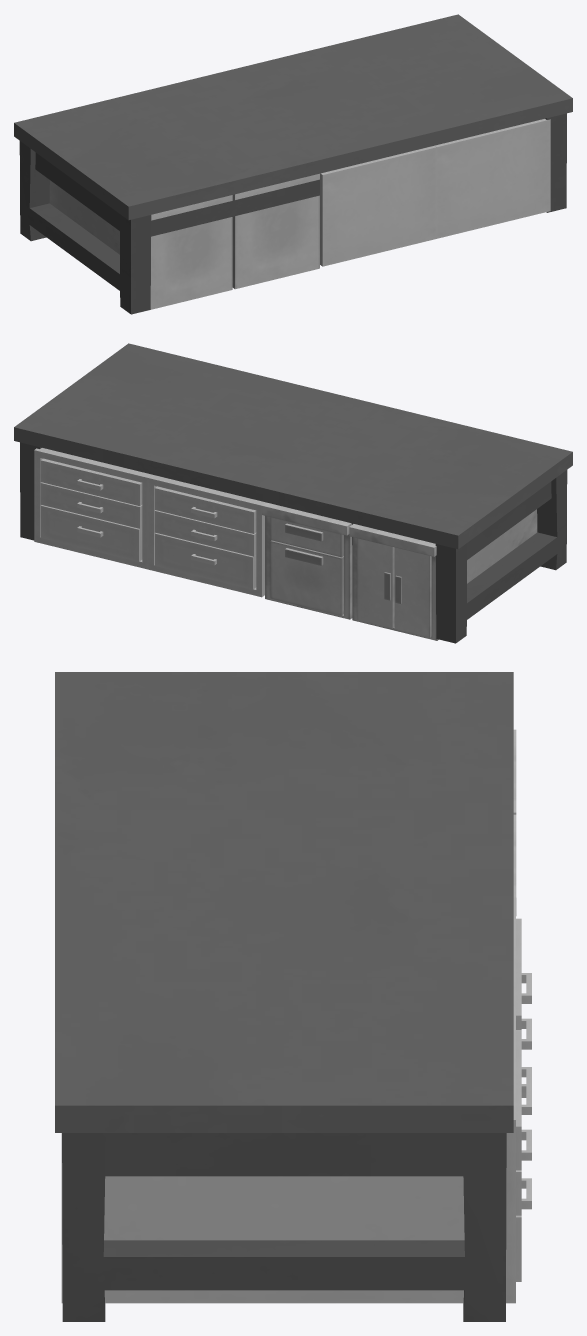
The model's file is Pfb_Table_02_1_JLAB_Temp__2.fbx.
3 views of the same model, one above another, from view 1: azimuth 30°, elevation 25°; view 2: azimuth 150°, elevation 25°; view 3: azimuth 270°, elevation 25° (orthographic). The views are drawn at different scales.
Parts seen in each view (by area): view 1: Mat_Table_02White, Kitchen 4, Kitchen; view 2: Mat_Table_02White, Kitchen 4, Kitchen; view 3: Mat_Table_02White, Kitchen 4.
Part boxes in pixels (x1,y1,x2,y2): Mat_Table_02White: (14,14,572,314); Kitchen 4: (320,119,550,266); Kitchen: (49,173,319,309); Mat_Table_02White: (14,343,572,643); Kitchen 4: (34,448,265,597); Kitchen: (262,502,537,640); Mat_Table_02White: (55,672,513,1321); Kitchen 4: (61,897,531,1303).
Bounding box in the file's own units: 2.78 × 0.6734 × 1.29.
3 materials, 3 textured.
